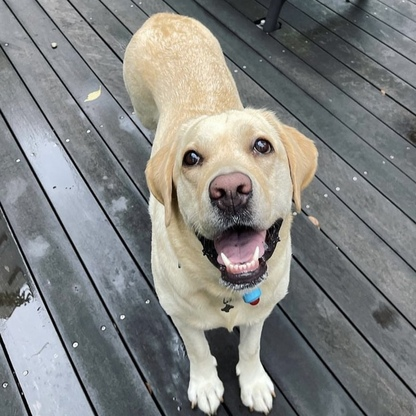labrado: (113, 8, 325, 414)
